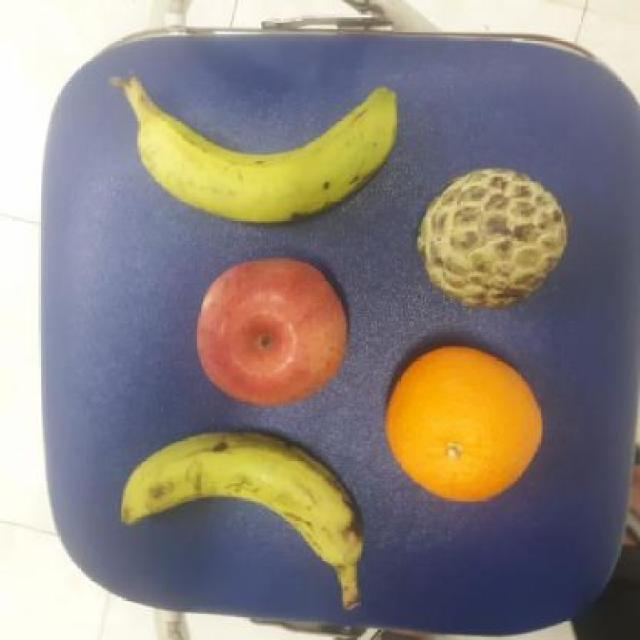apple: (192, 256, 350, 410)
banana: (128, 84, 400, 227), (120, 426, 368, 576)
oren: (382, 343, 544, 503)
sugar apple: (412, 165, 570, 312)
